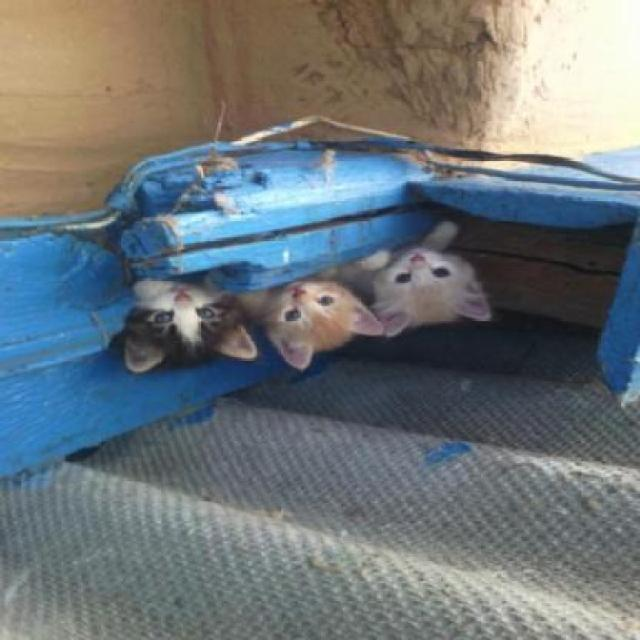cat: (107, 276, 261, 378), (378, 224, 507, 345), (276, 267, 387, 379)
